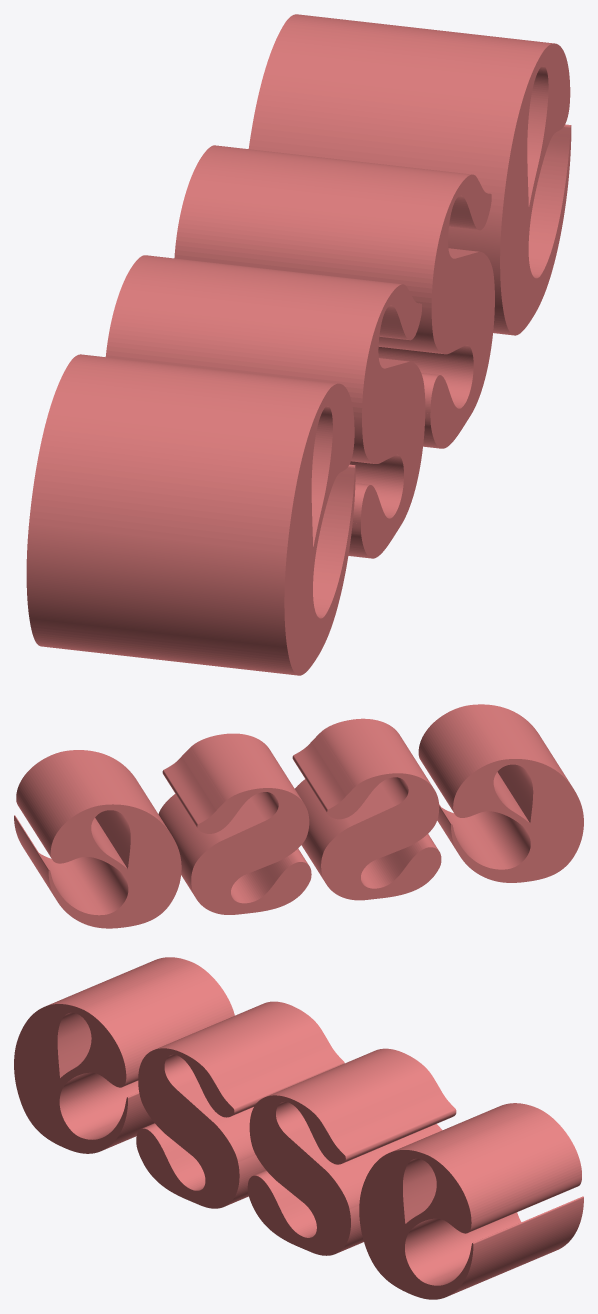
File: ess_table.glb
3 renders of one model, top to bottom at view 1: azimuth 30°, elevation 25°; view 2: azimuth 150°, elevation 25°; view 3: azimuth 270°, elevation 25°, orthographic. The views are drawn at different scales.
Size of the model in its own units: 44.48 by 12.59 by 44.48.
